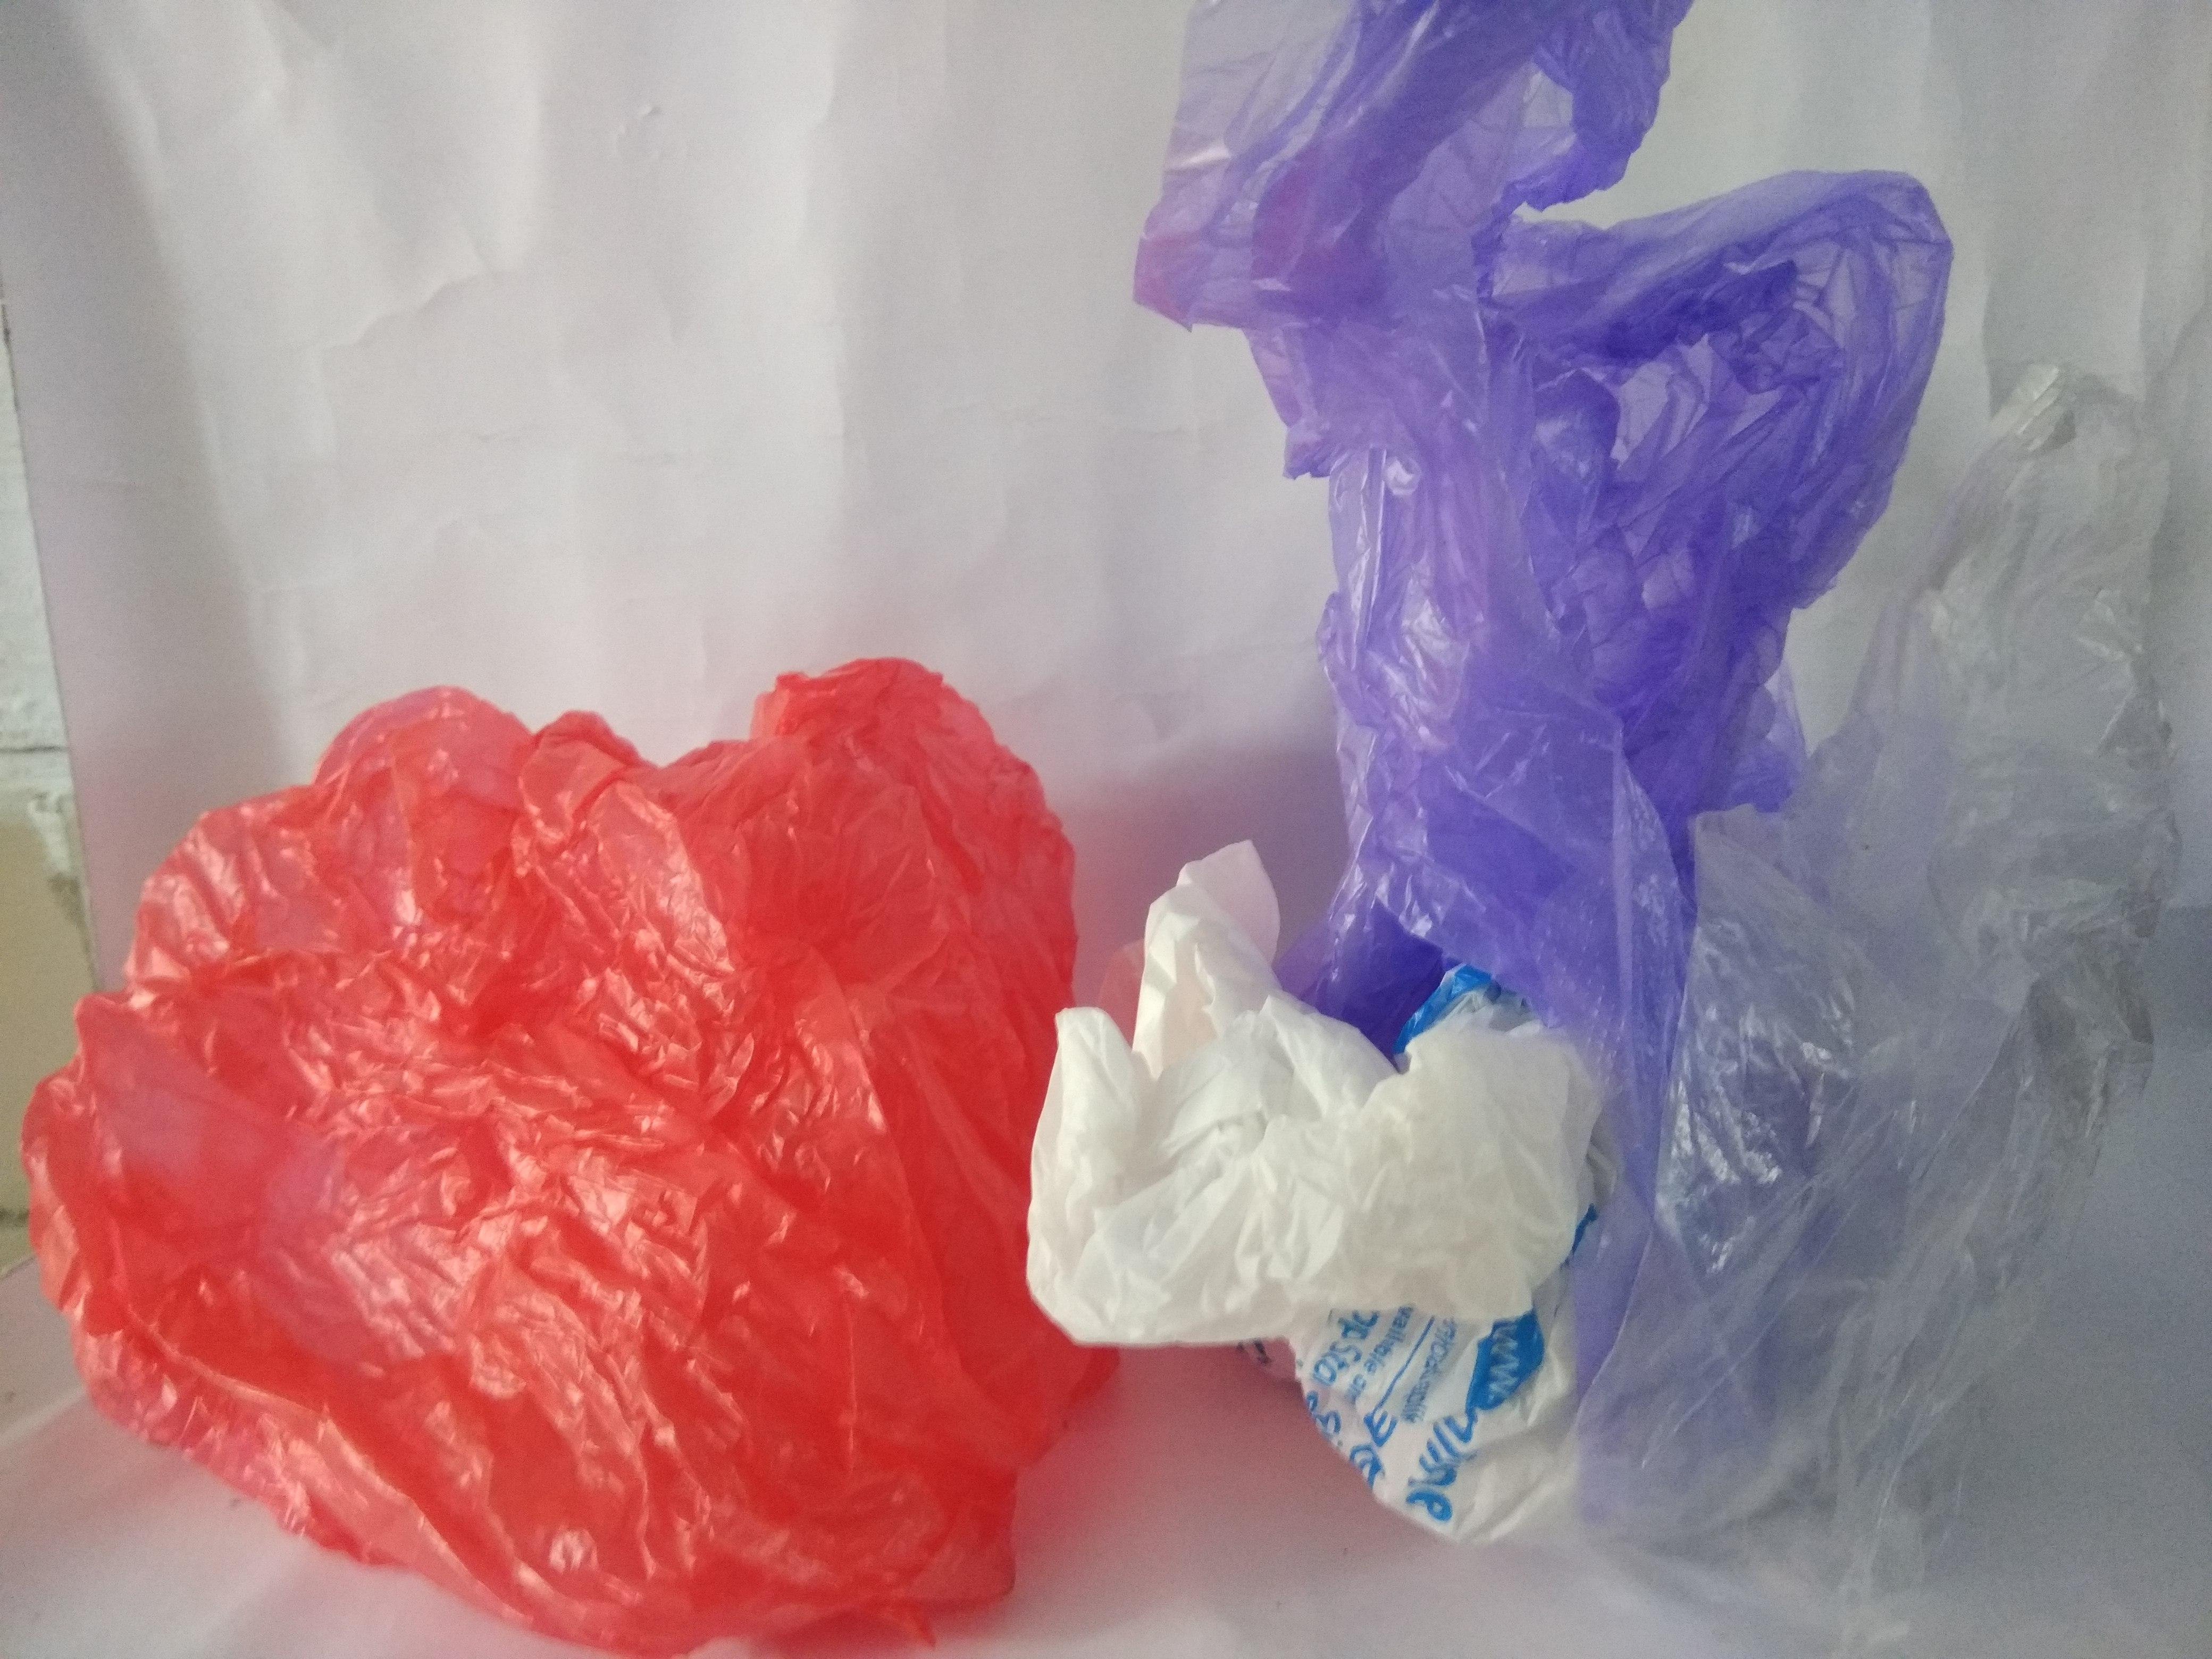LDPE: (19, 650, 1073, 1659), (1129, 0, 1951, 1012), (1588, 359, 2184, 1659), (1024, 835, 1604, 1553)
